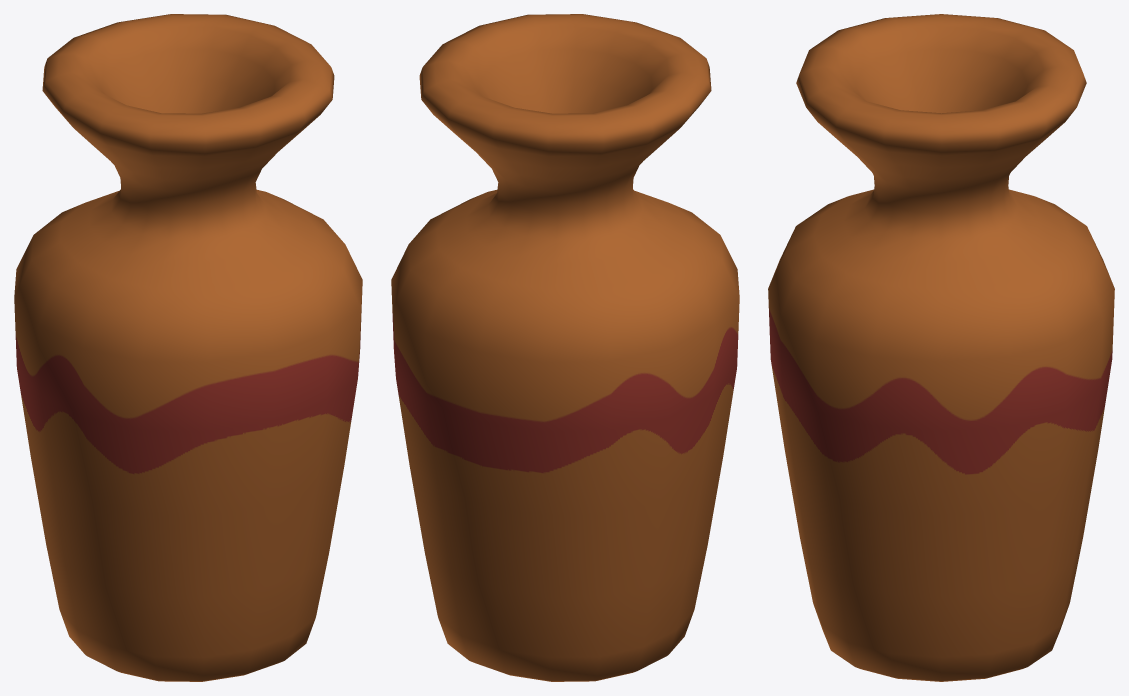
The model's file is RedVaseL.fbx.
The picture shows the model from 3 angles, left to right: view 1: azimuth 30°, elevation 25°; view 2: azimuth 150°, elevation 25°; view 3: azimuth 270°, elevation 25°; orthographic projection.
Parts seen in each view (by area): view 1: Cube.009; view 2: Cube.009; view 3: Cube.009.
Part boxes in pixels (box(x1,y1,x2,y2)): Cube.009: box(14, 14, 362, 681); Cube.009: box(391, 14, 739, 681); Cube.009: box(768, 14, 1114, 681).
Size of the model in its own units: 169 by 306 by 169.
